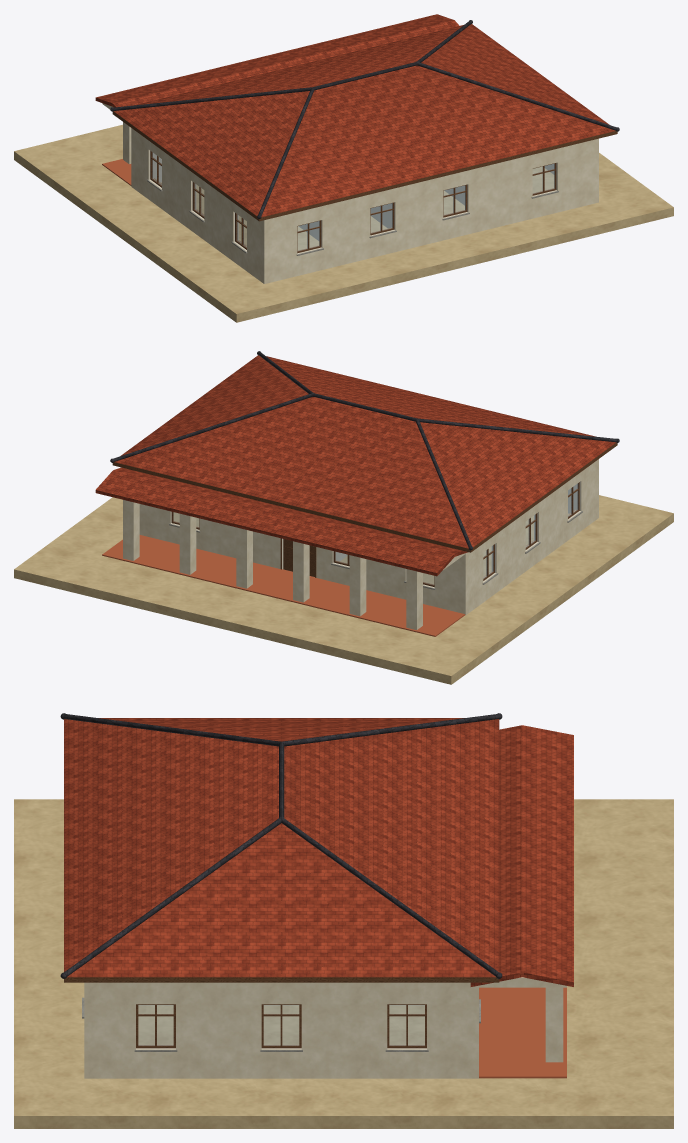
The model's file is b_spanish_hacienda.gltf.
The picture shows the model from 3 angles, top to bottom: view 1: azimuth 30°, elevation 25°; view 2: azimuth 150°, elevation 25°; view 3: azimuth 270°, elevation 25°; orthographic projection. The views are drawn at different scales.
Parts seen in each view (by area): view 1: S_spanish_hacienda; view 2: S_spanish_hacienda; view 3: S_spanish_hacienda.
Boxes of the visible parts, x1=… form: S_spanish_hacienda: x1=14, y1=14, x2=673, y2=322; S_spanish_hacienda: x1=14, y1=351, x2=673, y2=684; S_spanish_hacienda: x1=14, y1=713, x2=673, y2=1128.
Bounding box in the file's own units: 21 × 5.92 × 18.5.
16 materials, 11 textured.
